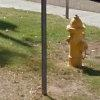Hydrant: (58, 9, 89, 70)
